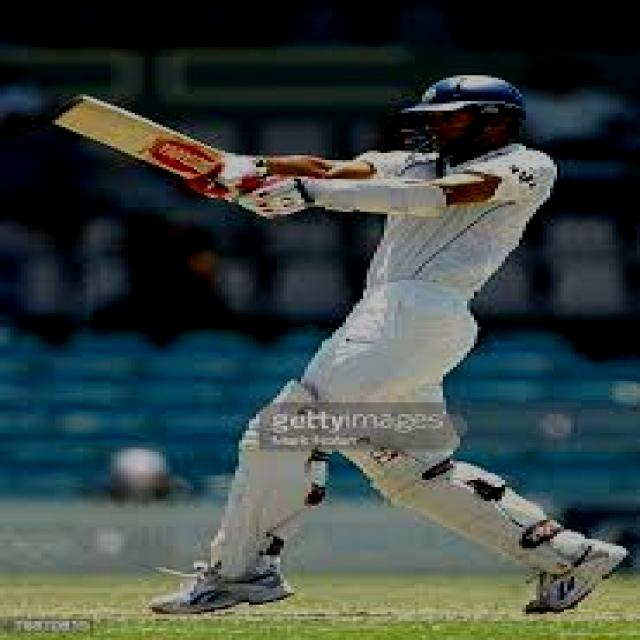toe: (45, 91, 91, 132)
